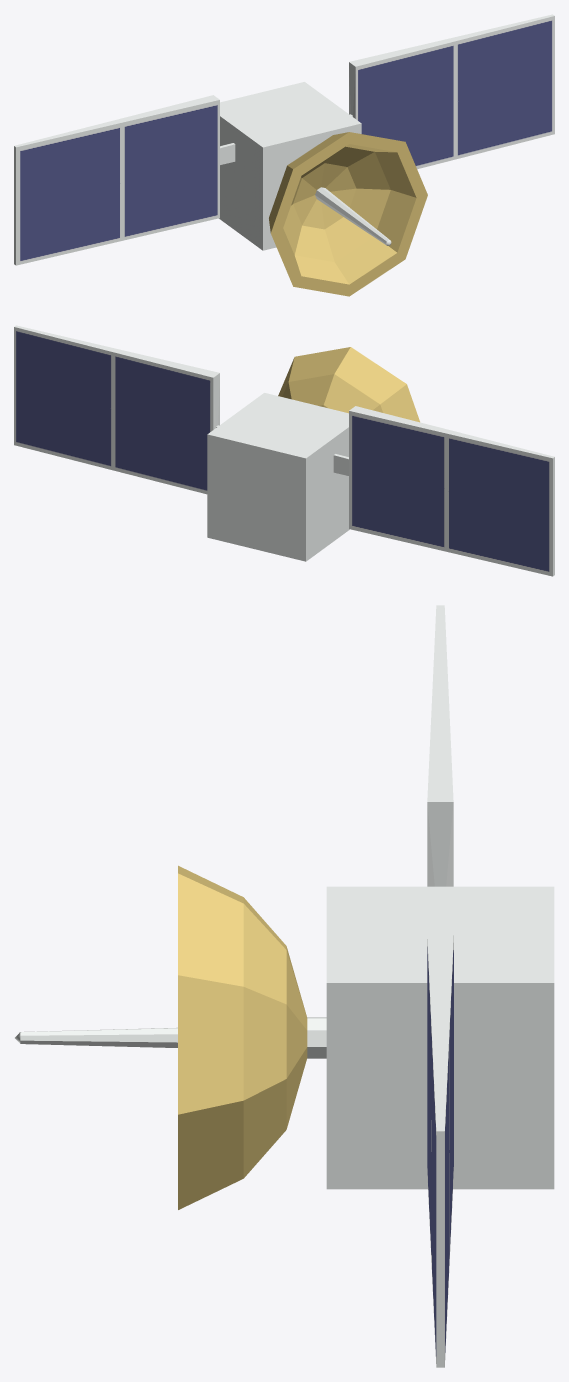
The picture shows the model from 3 angles, top to bottom: view 1: azimuth 30°, elevation 25°; view 2: azimuth 150°, elevation 25°; view 3: azimuth 270°, elevation 25°; orthographic projection. The views are drawn at different scales.
Parts seen in each view (by area): view 1: pCube1; view 2: pCube1; view 3: pCube1.
Part boxes in pixels (x1,y1,x2,y2): pCube1: [14, 14, 554, 296]; pCube1: [14, 325, 554, 576]; pCube1: [15, 605, 554, 1367].
Size of the model in its own units: 29.28 by 8.7 by 12.7.
1 material, 1 textured.
